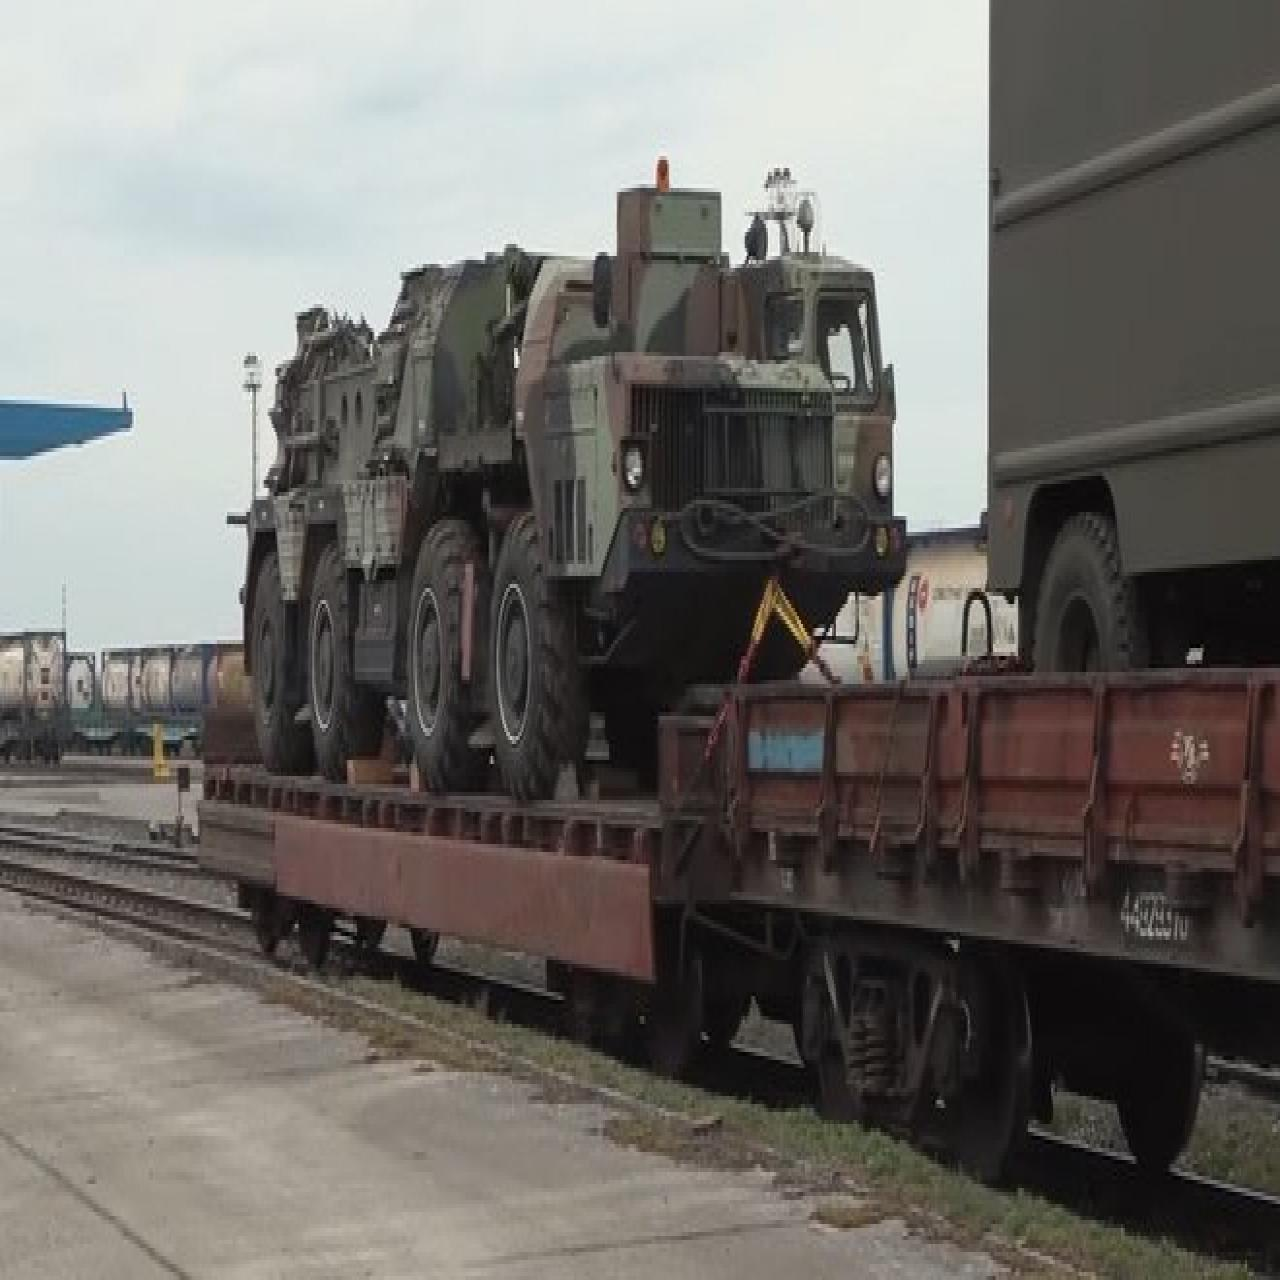MIL_Veh: (240, 238, 891, 784)
